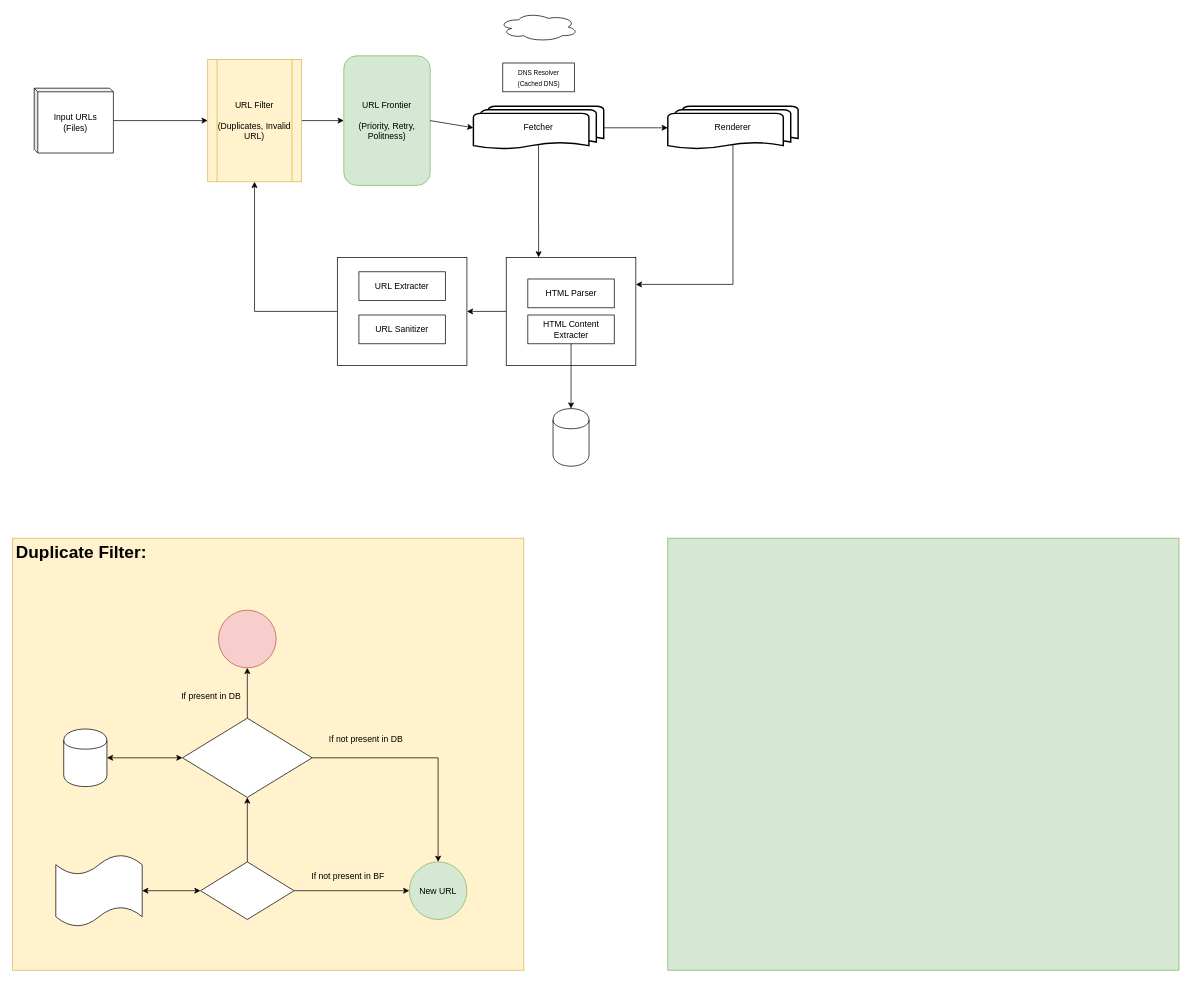
This 1192x983 diagram has some shape labels left out. Each missing label, with the box of its shape:
Bloom Filter(BF): (55, 854, 142, 927)
check URL present in BF: (200, 861, 294, 920)
check URL present in DB: (182, 717, 312, 797)
Ignore URL: (218, 609, 276, 668)
Internet: (498, 12, 578, 41)
URL Frontier:: (667, 537, 1179, 970)
